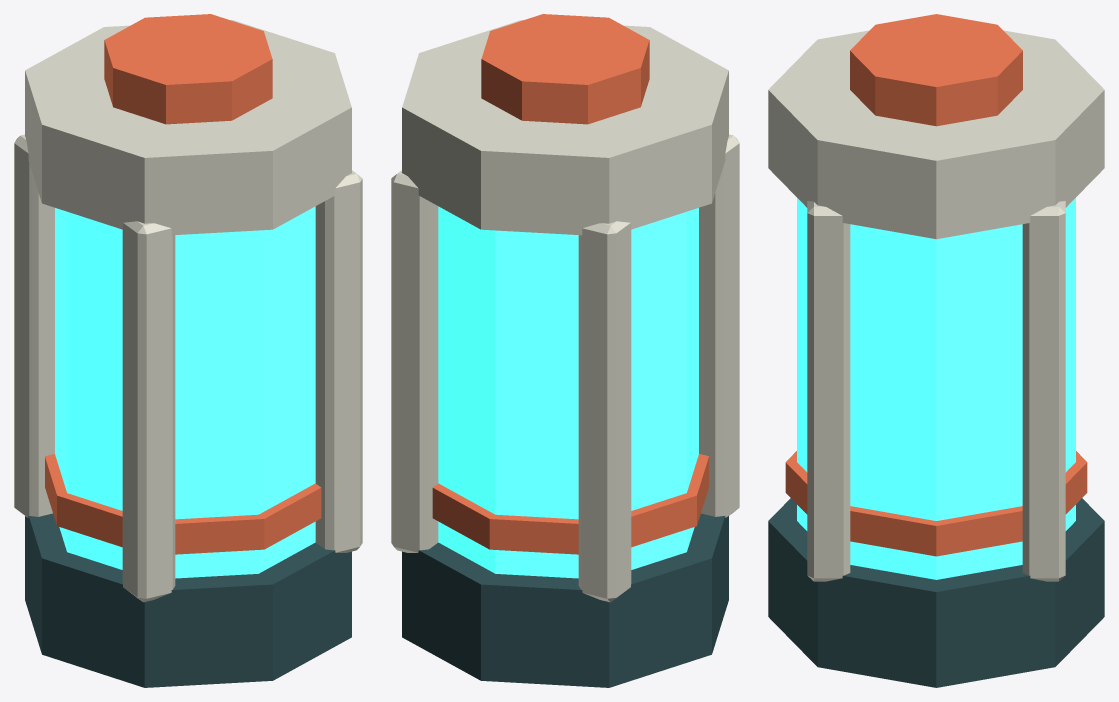
File: energy_cell.glb
The picture shows the model from 3 angles, left to right: view 1: azimuth 30°, elevation 25°; view 2: azimuth 150°, elevation 25°; view 3: azimuth 270°, elevation 25°; orthographic projection.
Visible parts, largest first — view 1: energy_cell; view 2: energy_cell; view 3: energy_cell.
Boxes of the visible parts, x1,y1,x2,y2 form: energy_cell: (14,14,362,687); energy_cell: (391,14,739,687); energy_cell: (768,14,1104,687).
Bounding box in the file's own units: 0.35 × 0.65 × 0.35.
